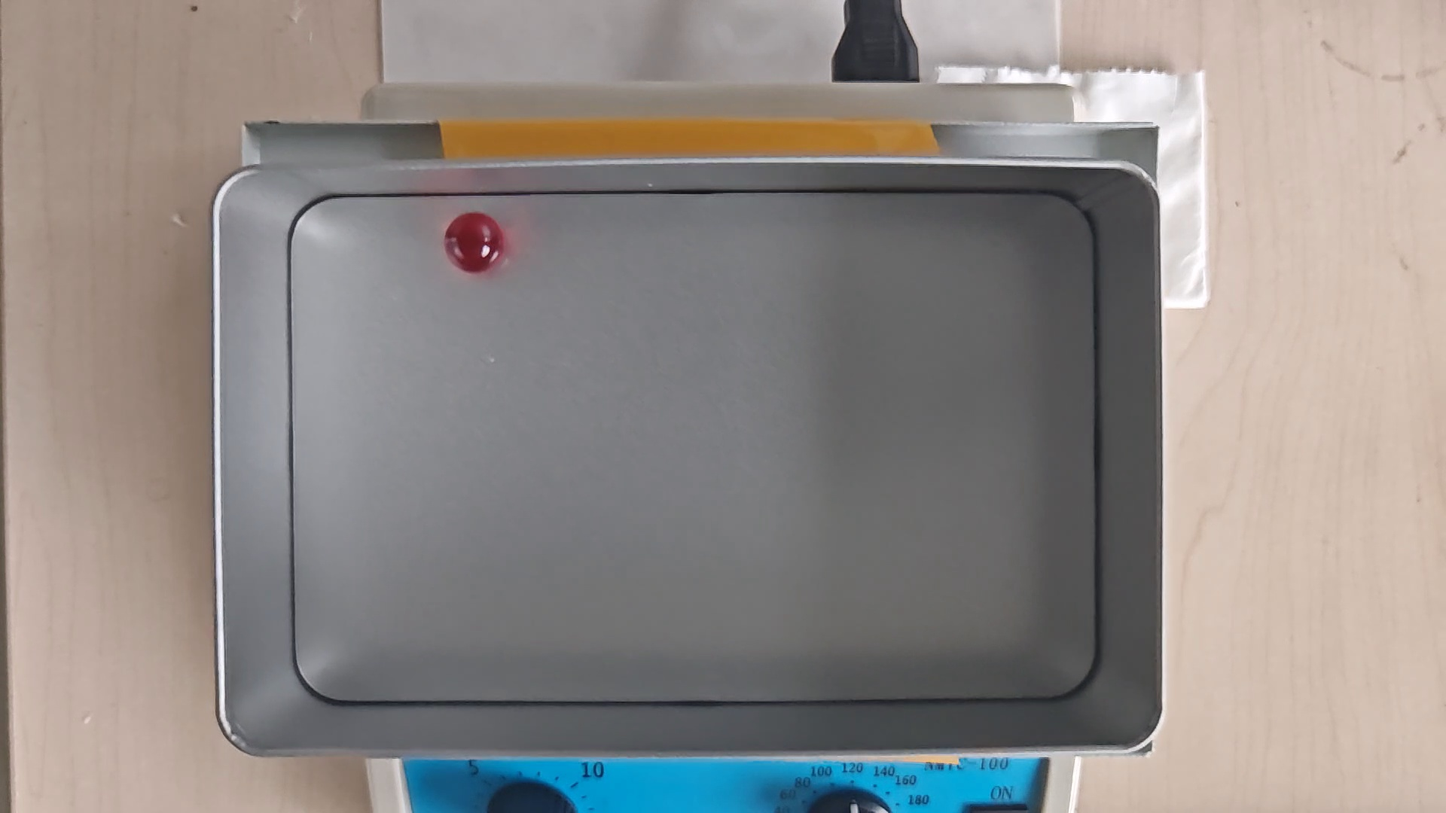ball: (441, 211, 506, 273)
container: (288, 193, 1097, 701)
